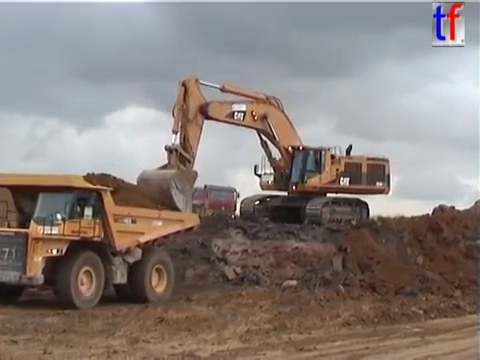excavator: (133, 74, 393, 234)
truck: (1, 171, 203, 312), (179, 184, 240, 224)
